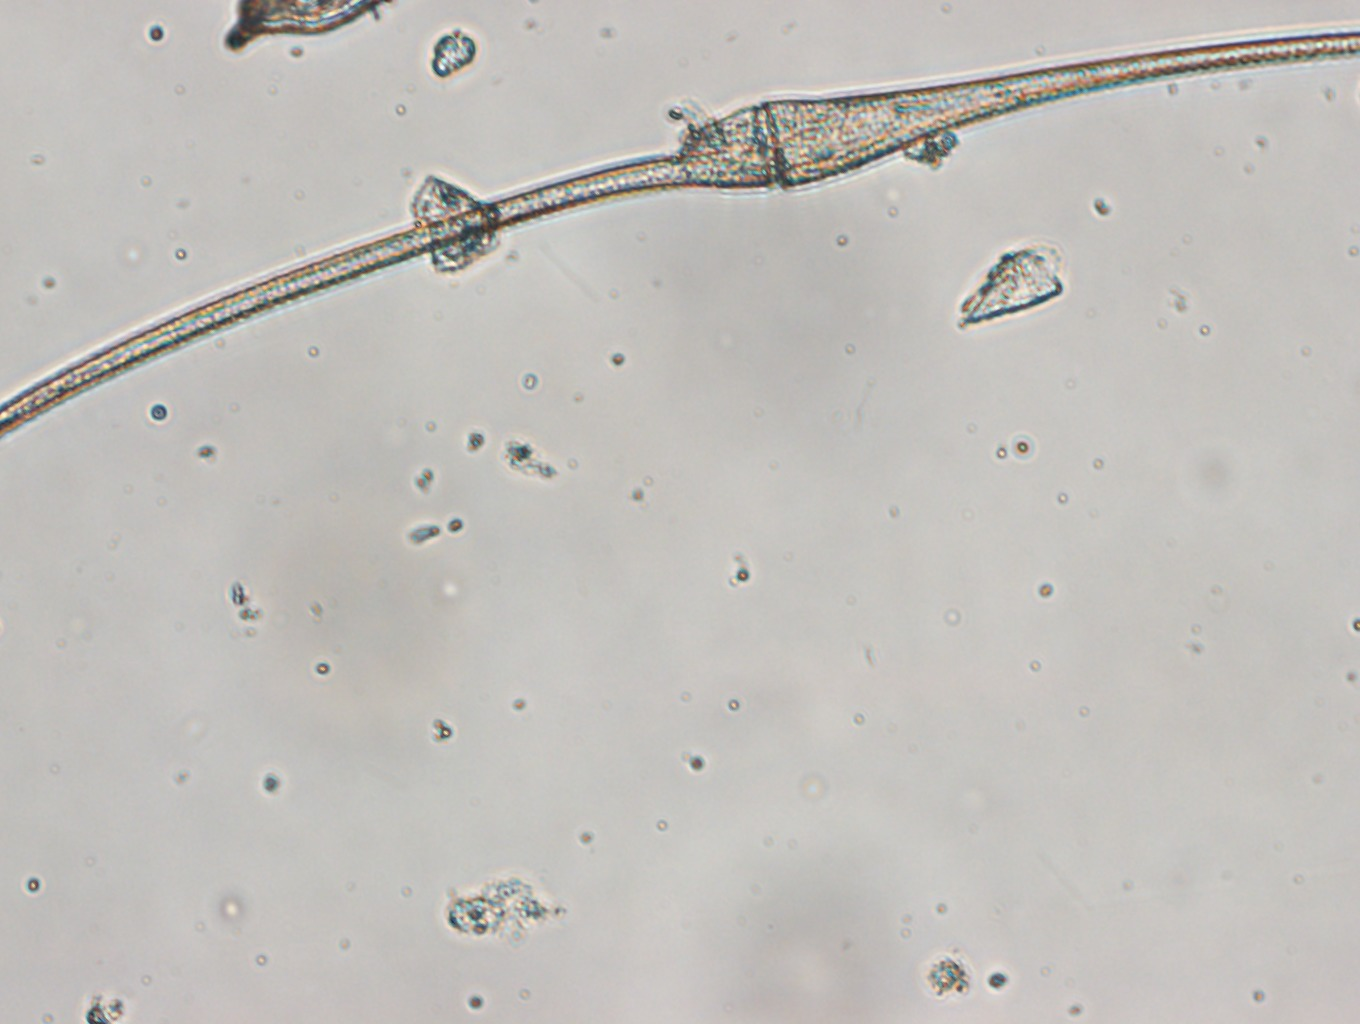ceratium fusus: (1, 20, 1360, 450)
